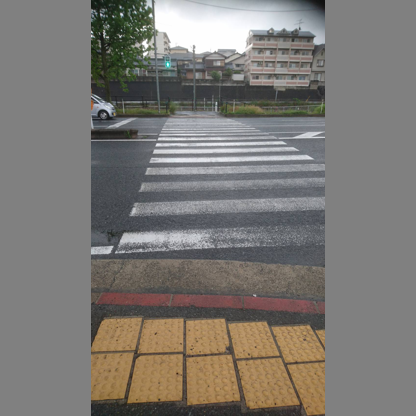brailleblock: (243, 323, 311, 408), (127, 318, 181, 399), (95, 316, 144, 401), (183, 319, 225, 404), (227, 321, 266, 397)
crosswalk: (144, 164, 324, 253), (157, 143, 290, 198), (162, 128, 267, 162)
signal: (164, 54, 171, 68)
